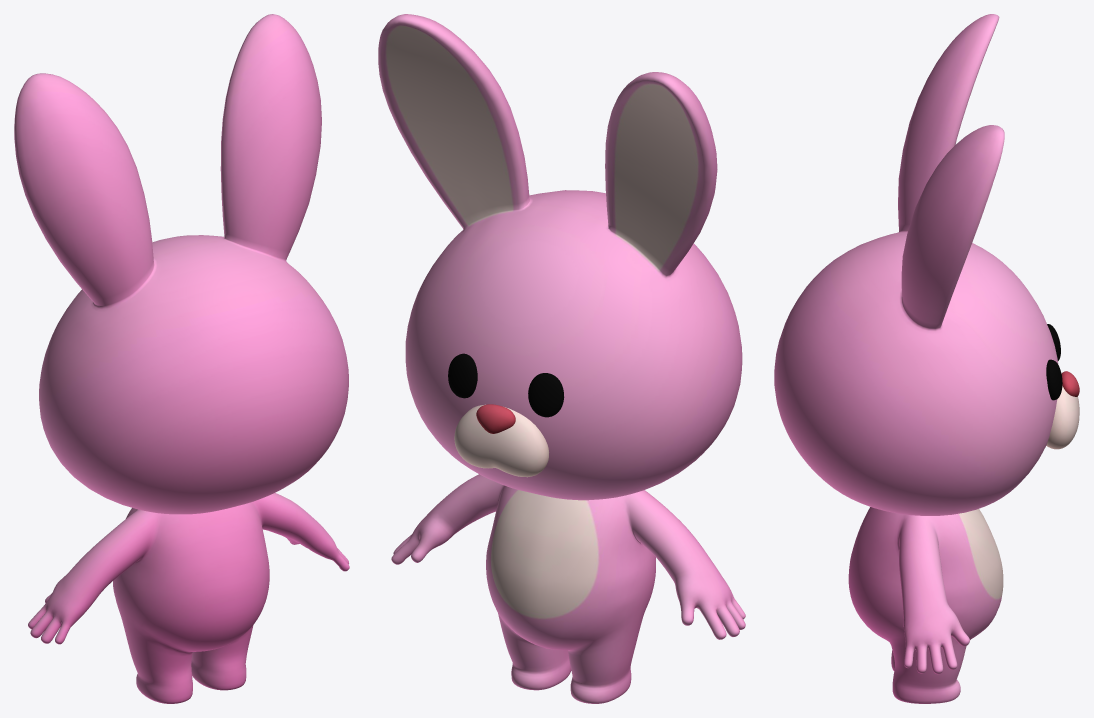
3 views of the same model, side by side, from view 1: azimuth 30°, elevation 25°; view 2: azimuth 150°, elevation 25°; view 3: azimuth 270°, elevation 25° (orthographic). The views are drawn at different scales.
Visible parts, largest first — view 1: Bunny_Bunny_0; view 2: Bunny_Bunny_0; view 3: Bunny_Bunny_0.
Part boxes in pixels (x1,y1,x2,y2): Bunny_Bunny_0: (14,14,349,703); Bunny_Bunny_0: (378,14,745,703); Bunny_Bunny_0: (774,14,1079,703).
Size of the model in its own units: 0.5032 by 0.9389 by 0.4268.
Materials: 1 (1 with a texture image).
